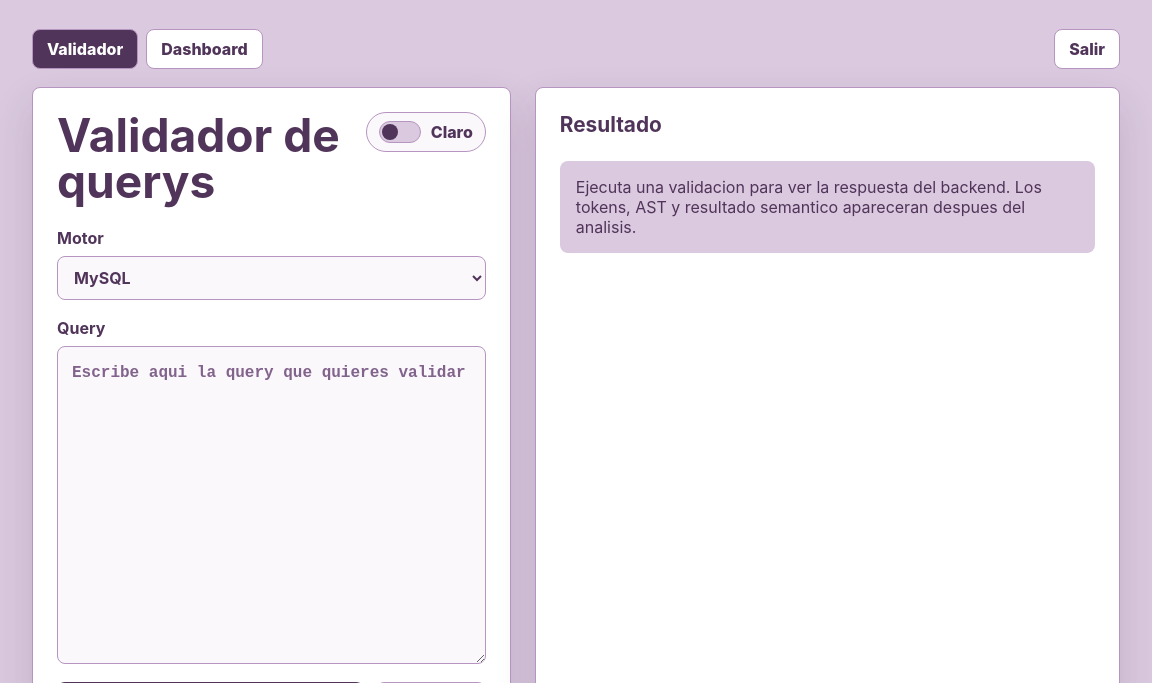
Test: App › renderiza lista de errores y warnings por fase
In the text box labelled "Query": point(271, 505) 57,346 -> 486,664, type "SELECT nombre WHERE edad > 18;"
(page scrolled)
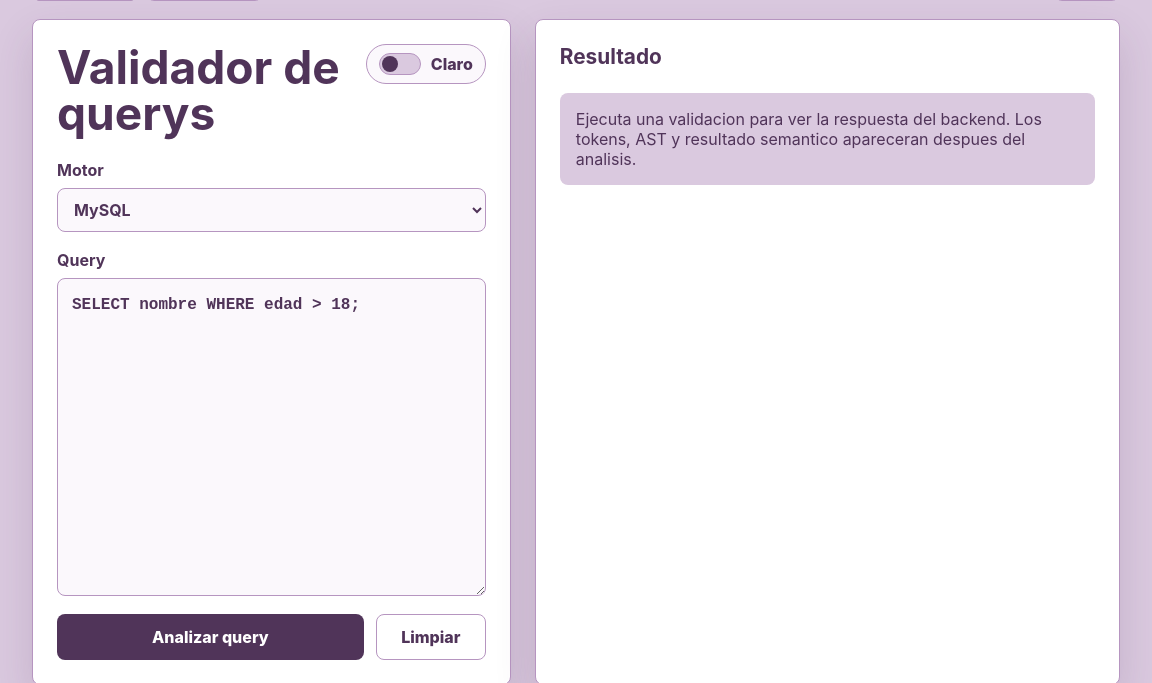
Submit the form, box 57,160 -> 486,660
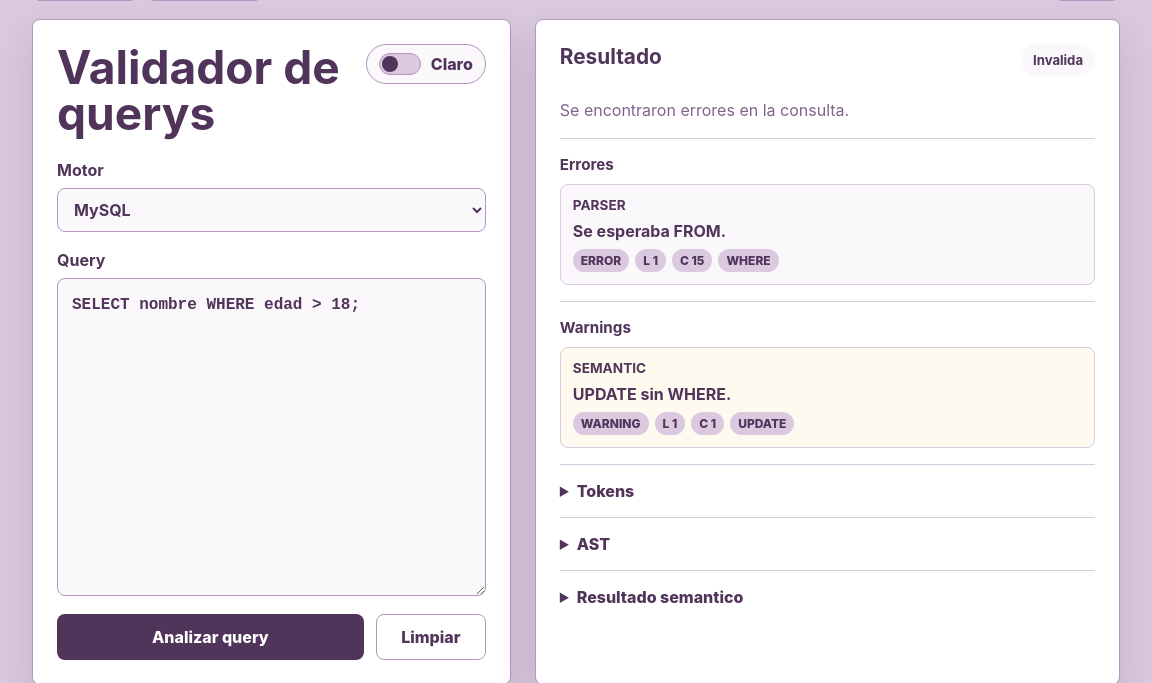
Result: the text "Se encontraron errores en la consulta." is shown at 560,100 -> 849,120
Result: the text "PARSER" is shown at 573,197 -> 626,213
Result: the text "Se esperaba FROM." is shown at 573,221 -> 726,241
